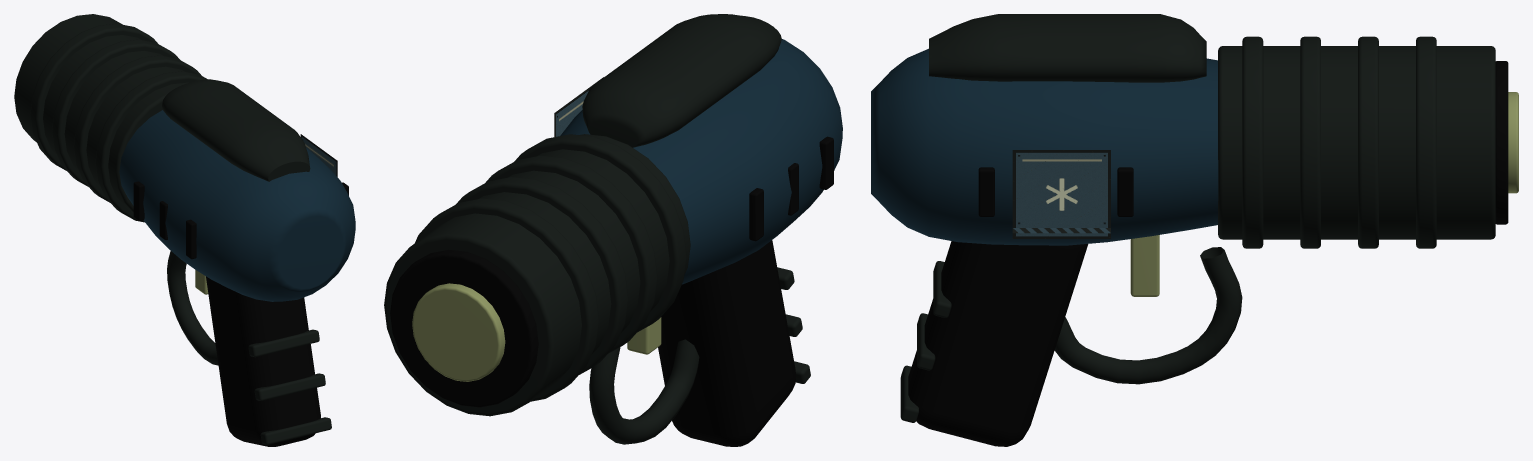
Rendered from ice.obj.
3 views of the same model, side by side, from view 1: azimuth 30°, elevation 25°; view 2: azimuth 150°, elevation 25°; view 3: azimuth 270°, elevation 25° (orthographic). The views are drawn at different scales.
Parts seen in each view (by area): view 1: Cooling_block, Angled_grip.001, Pulse_barrel, Reciprocating_top, Cooling_fin.001, Cooling_fin.002, Cooling_fin.003, Cooling_fin, Curved_trigger_guard.001, Grip_tread.005, Grip_tread.004, Grip_tread.003 (+3 smaller); view 2: Cooling_block, Pulse_barrel, Angled_grip.001, Reciprocating_top, Muzzle_recess, Cold_emitter, Cooling_fin.003, Curved_trigger_guard.001, Cooling_fin, Cooling_fin.001, Cooling_fin.002, Trigger.001 (+4 smaller); view 3: Cooling_block, Pulse_barrel, Angled_grip.001, Reciprocating_top, Specification_plate.001, Curved_trigger_guard.001, Cooling_fin, Cooling_fin.001, Cooling_fin.003, Cooling_fin.002, Muzzle_recess, Trigger.001 (+6 smaller).
Part boxes in pixels (x1,y1,x2,y2): Cooling_block: (119, 110, 355, 301); Angled_grip.001: (206, 276, 320, 446); Pulse_barrel: (14, 14, 188, 212); Reciprocating_top: (162, 79, 310, 181); Cooling_fin.001: (73, 55, 201, 202); Cooling_fin.002: (52, 39, 179, 186); Cooling_fin.003: (30, 23, 157, 170); Cooling_fin: (95, 71, 207, 222); Curved_trigger_guard.001: (167, 251, 218, 365); Grip_tread.005: (248, 329, 319, 357); Grip_tread.004: (254, 373, 325, 400); Grip_tread.003: (260, 417, 331, 444); Cooling_block: (560, 39, 842, 284); Pulse_barrel: (384, 134, 690, 416); Angled_grip.001: (658, 240, 796, 446); Reciprocating_top: (582, 14, 781, 147); Muzzle_recess: (390, 250, 538, 407); Cold_emitter: (412, 283, 505, 381); Cooling_fin.003: (415, 198, 598, 401); Curved_trigger_guard.001: (589, 339, 699, 444); Cooling_fin: (514, 134, 686, 332); Cooling_fin.001: (485, 155, 657, 353); Cooling_fin.002: (456, 177, 628, 374); Trigger.001: (627, 317, 661, 354); Cooling_block: (871, 48, 1218, 245); Pulse_barrel: (1218, 46, 1495, 239); Angled_grip.001: (908, 241, 1088, 446); Reciprocating_top: (929, 14, 1206, 82); Specification_plate.001: (1012, 150, 1110, 238); Curved_trigger_guard.001: (1054, 247, 1242, 384); Cooling_fin: (1242, 36, 1263, 248); Cooling_fin.001: (1300, 36, 1320, 248); Cooling_fin.003: (1416, 36, 1436, 248); Cooling_fin.002: (1358, 36, 1378, 248); Muzzle_recess: (1495, 61, 1508, 224); Trigger.001: (1130, 235, 1159, 296).
Size of the model in its own units: 0.2112 by 0.3936 by 0.56.
Materials: 6 (1 with a texture image).
